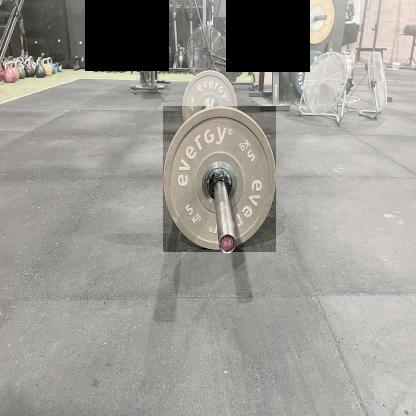barbell: (164, 106, 276, 252)
